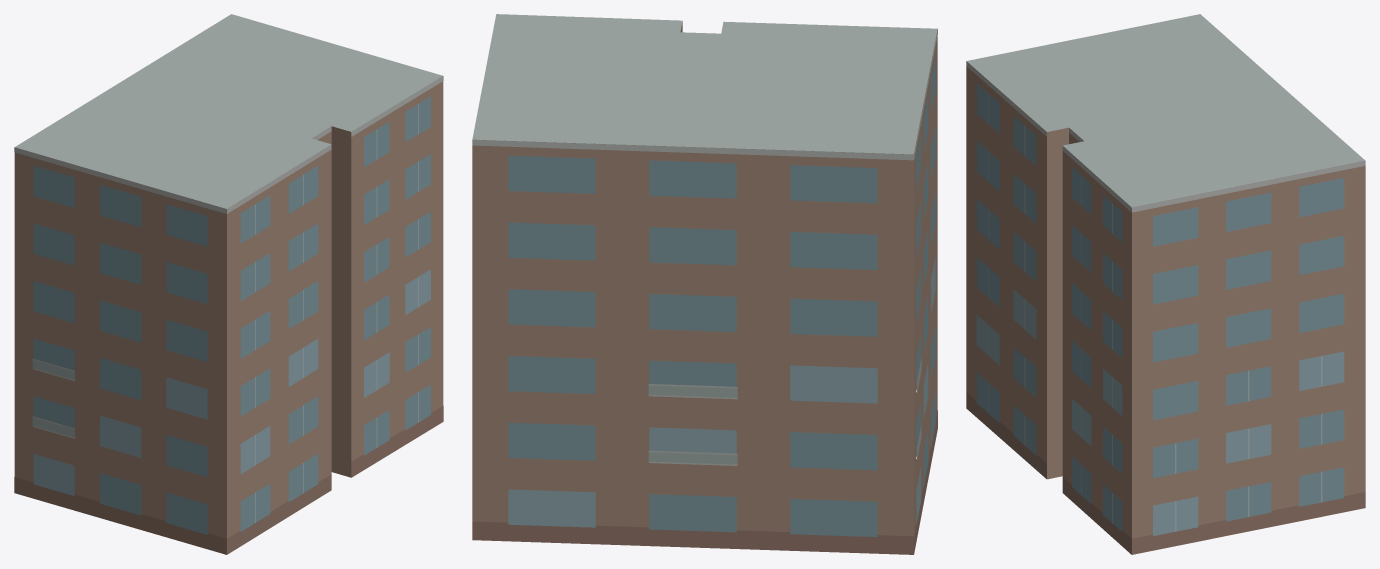
Rendered from survey-upis-32740653.glb.
3 renders of one model, left to right at view 1: azimuth 30°, elevation 25°; view 2: azimuth 150°, elevation 25°; view 3: azimuth 270°, elevation 25°, orthographic. The views are drawn at different scales.
Visible parts, largest first — view 1: survey-upis-32740653.tmp; view 2: survey-upis-32740653.tmp; view 3: survey-upis-32740653.tmp.
Boxes of the visible parts, x1,y1,x2,y2 form: survey-upis-32740653.tmp: (14, 14, 443, 554); survey-upis-32740653.tmp: (472, 14, 937, 554); survey-upis-32740653.tmp: (966, 14, 1365, 554).
Size of the model in its own units: 19.84 by 16.6 by 17.3.
